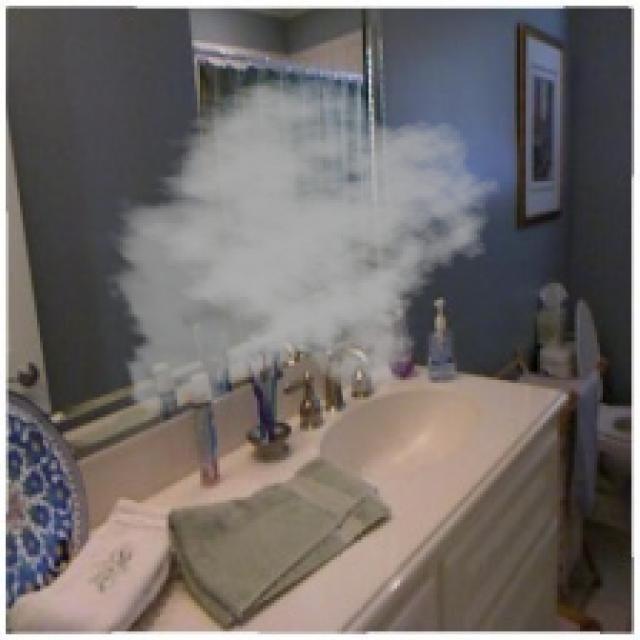Smoke: (103, 77, 503, 429)
